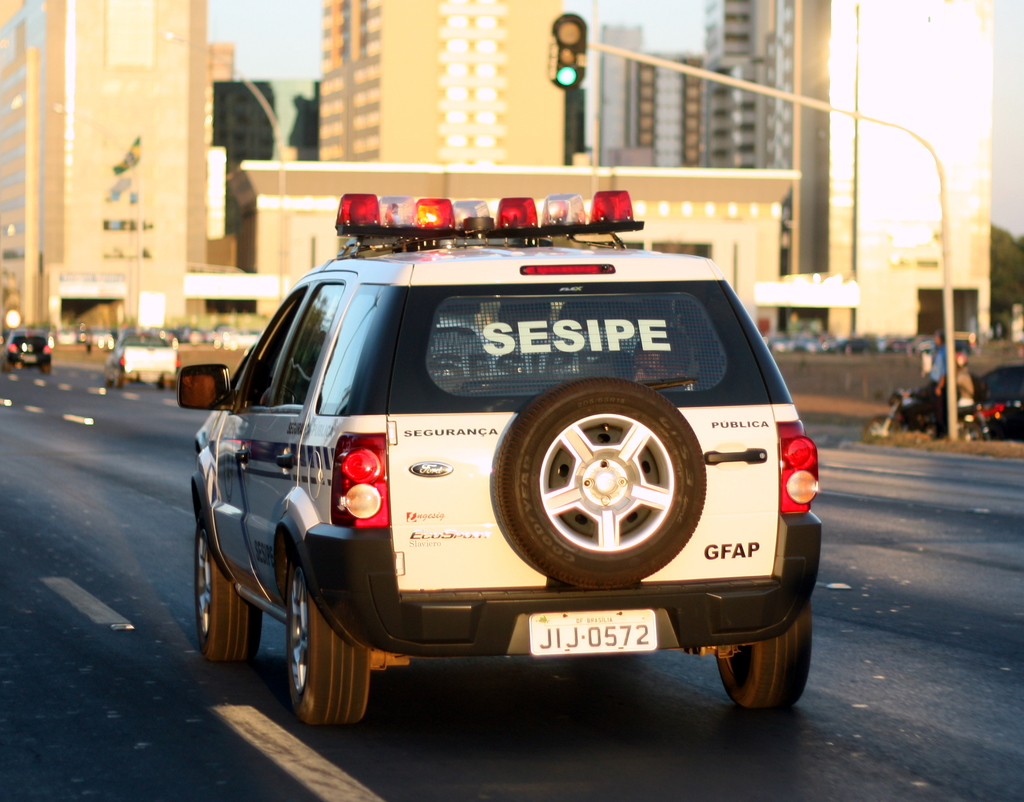license plate: (527, 617, 661, 648)
